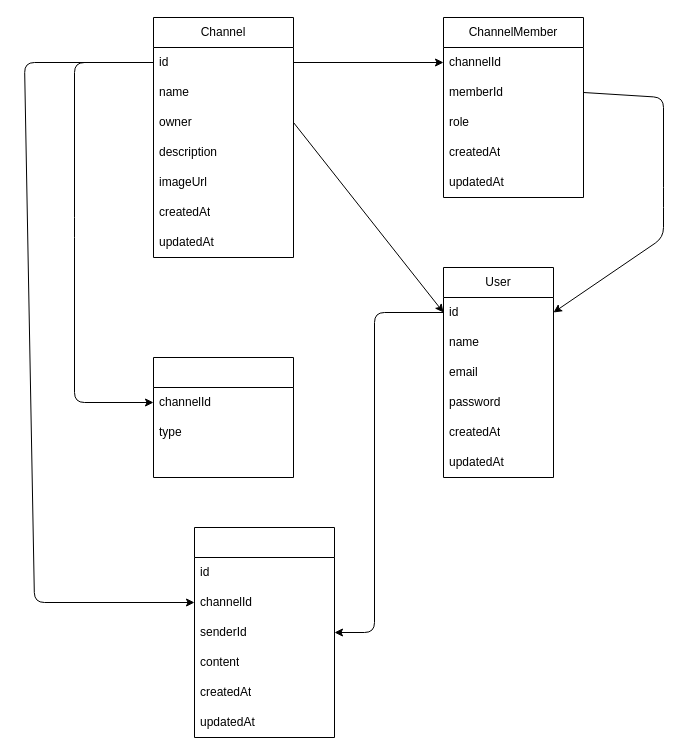
This 689x755 diagram has some shape labels left out. The shapes that lost their labels are listed below. From the top down, each one's box as (x1, y1, x2, y2) in pixels, then its label:
(152, 356, 294, 478): ChannelDetail
(194, 526, 334, 738): ChannelMessage
